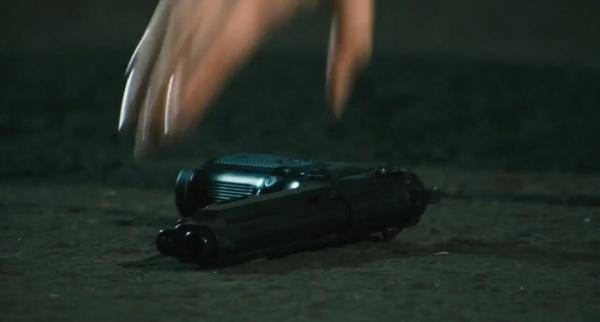Gun: (157, 154, 431, 275)
